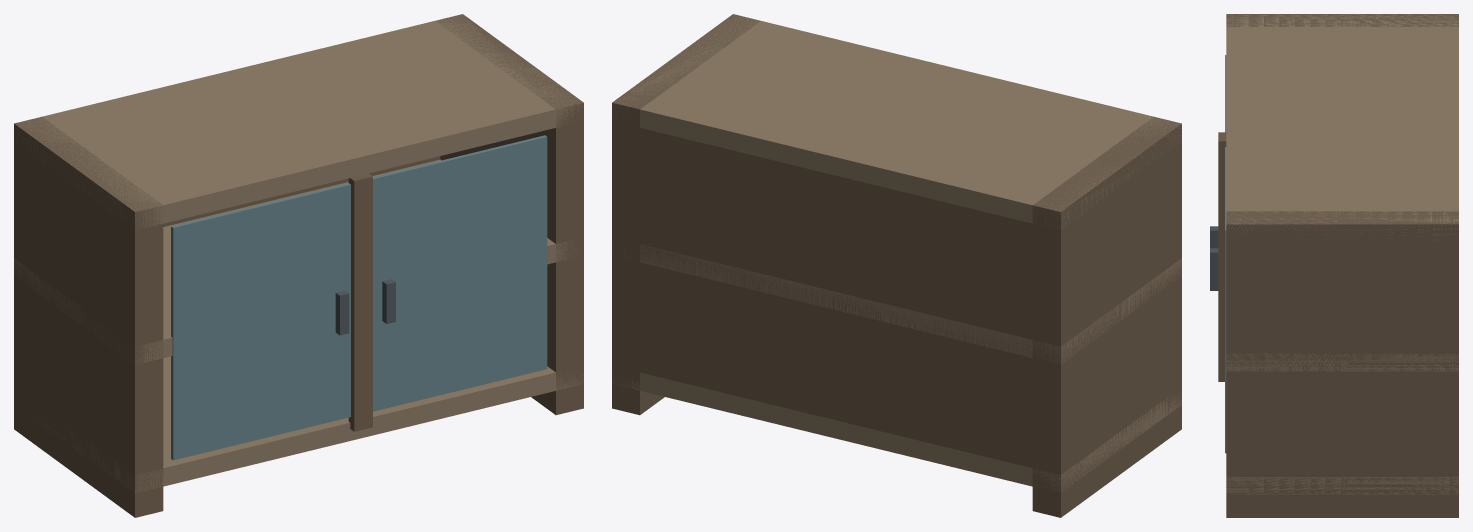
The model's file is glass_cabinet.glb.
3 renders of one model, left to right at view 1: azimuth 30°, elevation 25°; view 2: azimuth 150°, elevation 25°; view 3: azimuth 270°, elevation 25°, orthographic. The views are drawn at different scales.
Visible parts, largest first — view 1: glass_cabinet; view 2: glass_cabinet; view 3: glass_cabinet.
Part boxes in pixels (left/top/right/bottom): glass_cabinet: left=14, top=14, right=583, bottom=517; glass_cabinet: left=612, top=14, right=1181, bottom=517; glass_cabinet: left=1210, top=14, right=1458, bottom=517.
Bounding box in the file's own units: 1.92 × 1.25 × 0.96.
